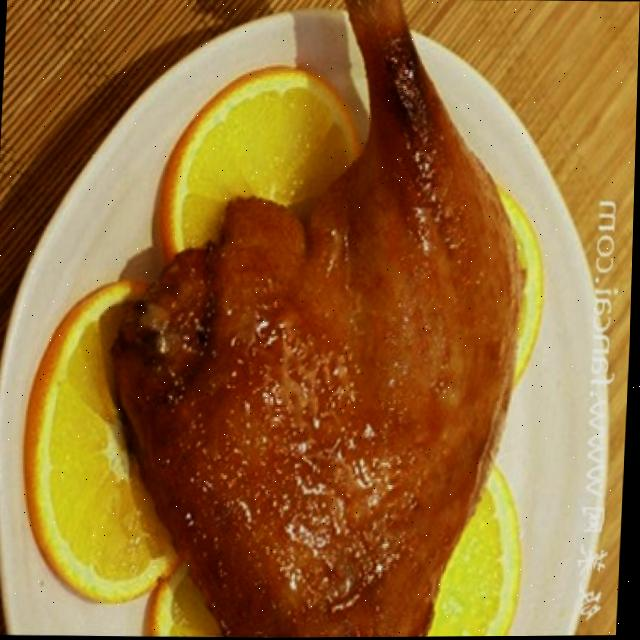烧串烤肉: (102, 0, 554, 639)
